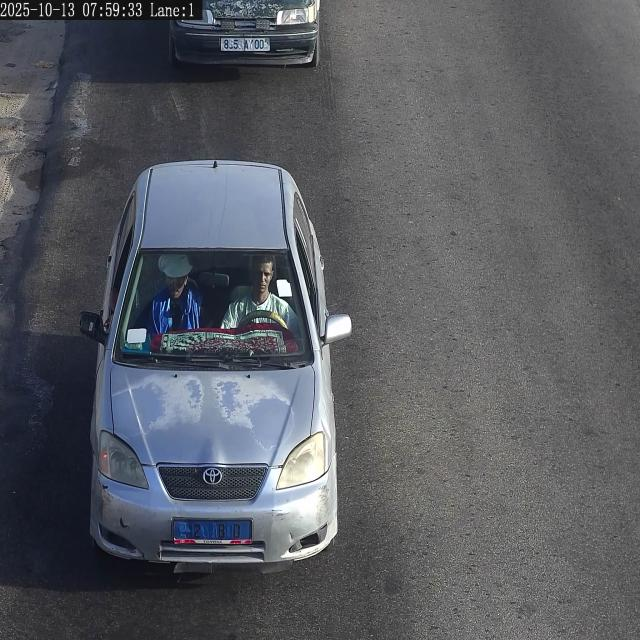BUS: (173, 520, 251, 544), (221, 38, 269, 52)
